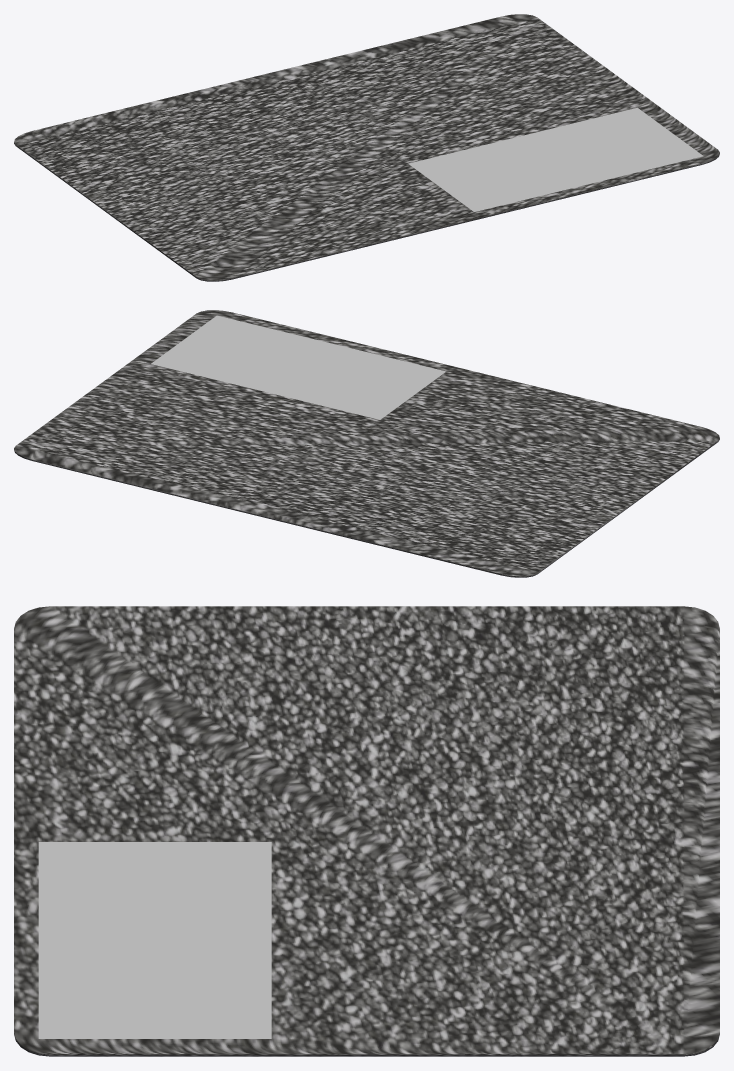
The picture shows the model from 3 angles, top to bottom: view 1: azimuth 30°, elevation 25°; view 2: azimuth 150°, elevation 25°; view 3: azimuth 270°, elevation 25°; orthographic projection. The views are drawn at different scales.
Visible parts, largest first — view 1: Tapis, Logo, Sous-Tapis; view 2: Tapis, Logo, Sous-Tapis; view 3: Tapis, Logo, Sous-Tapis.
Part boxes in pixels (left/top/right/bottom): Tapis: left=14, top=14, right=719, bottom=280; Logo: left=408, top=107, right=703, bottom=211; Sous-Tapis: left=14, top=143, right=719, bottom=281; Tapis: left=14, top=310, right=719, bottom=576; Logo: left=151, top=315, right=445, bottom=419; Sous-Tapis: left=14, top=439, right=719, bottom=577; Tapis: left=14, top=606, right=719, bottom=1055; Logo: left=38, top=842, right=271, bottom=1038; Sous-Tapis: left=14, top=1033, right=719, bottom=1056.
Bounding box in the file's own units: 300 × 0.81 × 200.
